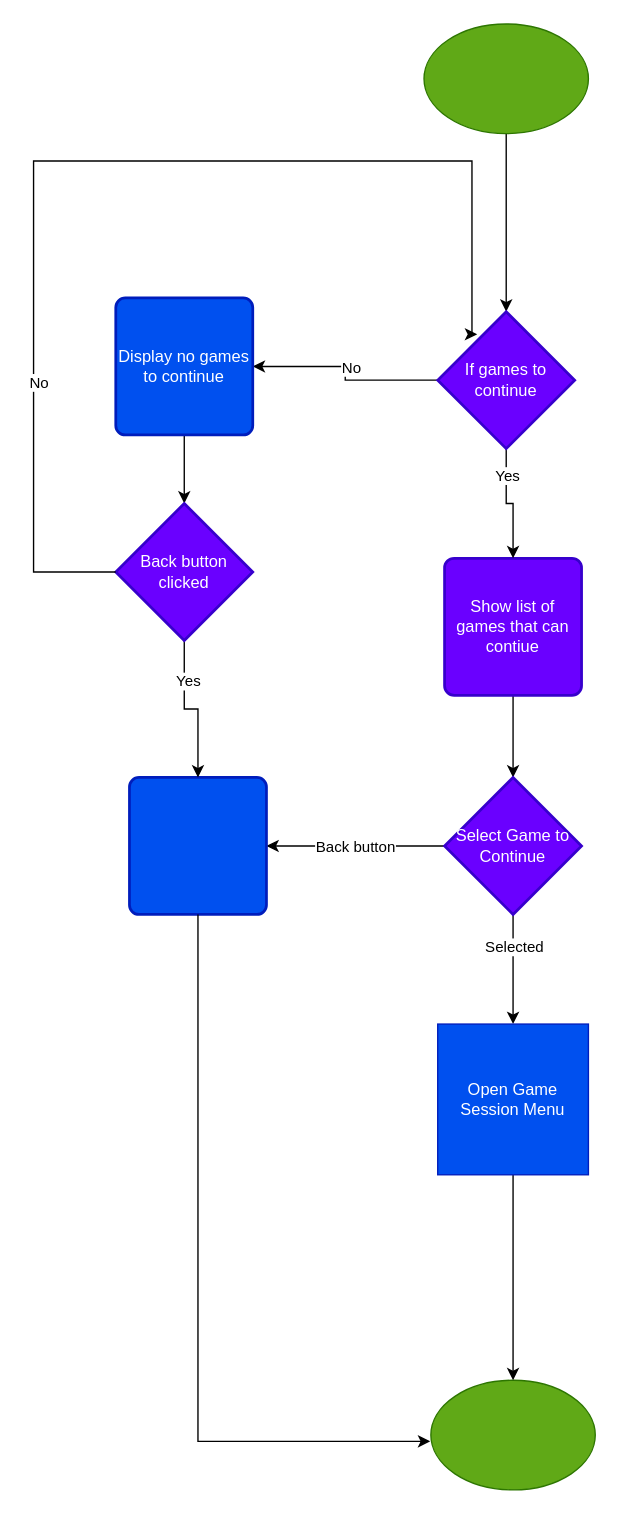
Some shapes in this 619 by 1514 pixel diagram are drawn without their labels. The box of each missing label's shape, as (x1, y1, x2, y2) in pixels:
End of continue game menu: (429, 1379, 595, 1490)
Go to home: (127, 775, 267, 915)
Start continue game menu: (423, 23, 588, 134)
